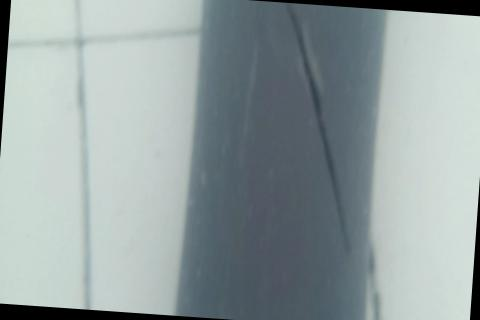keretakan: (262, 2, 369, 255)
